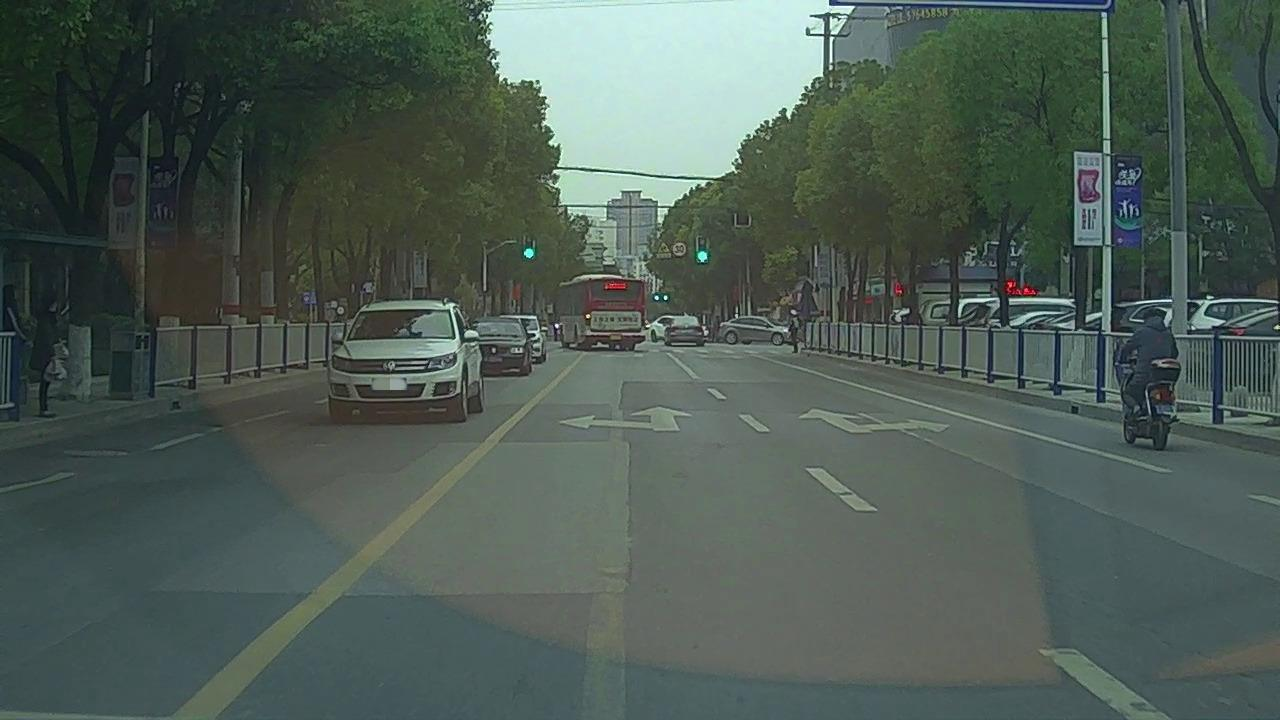traffic_light: (696, 237, 708, 264), (525, 232, 535, 258)
